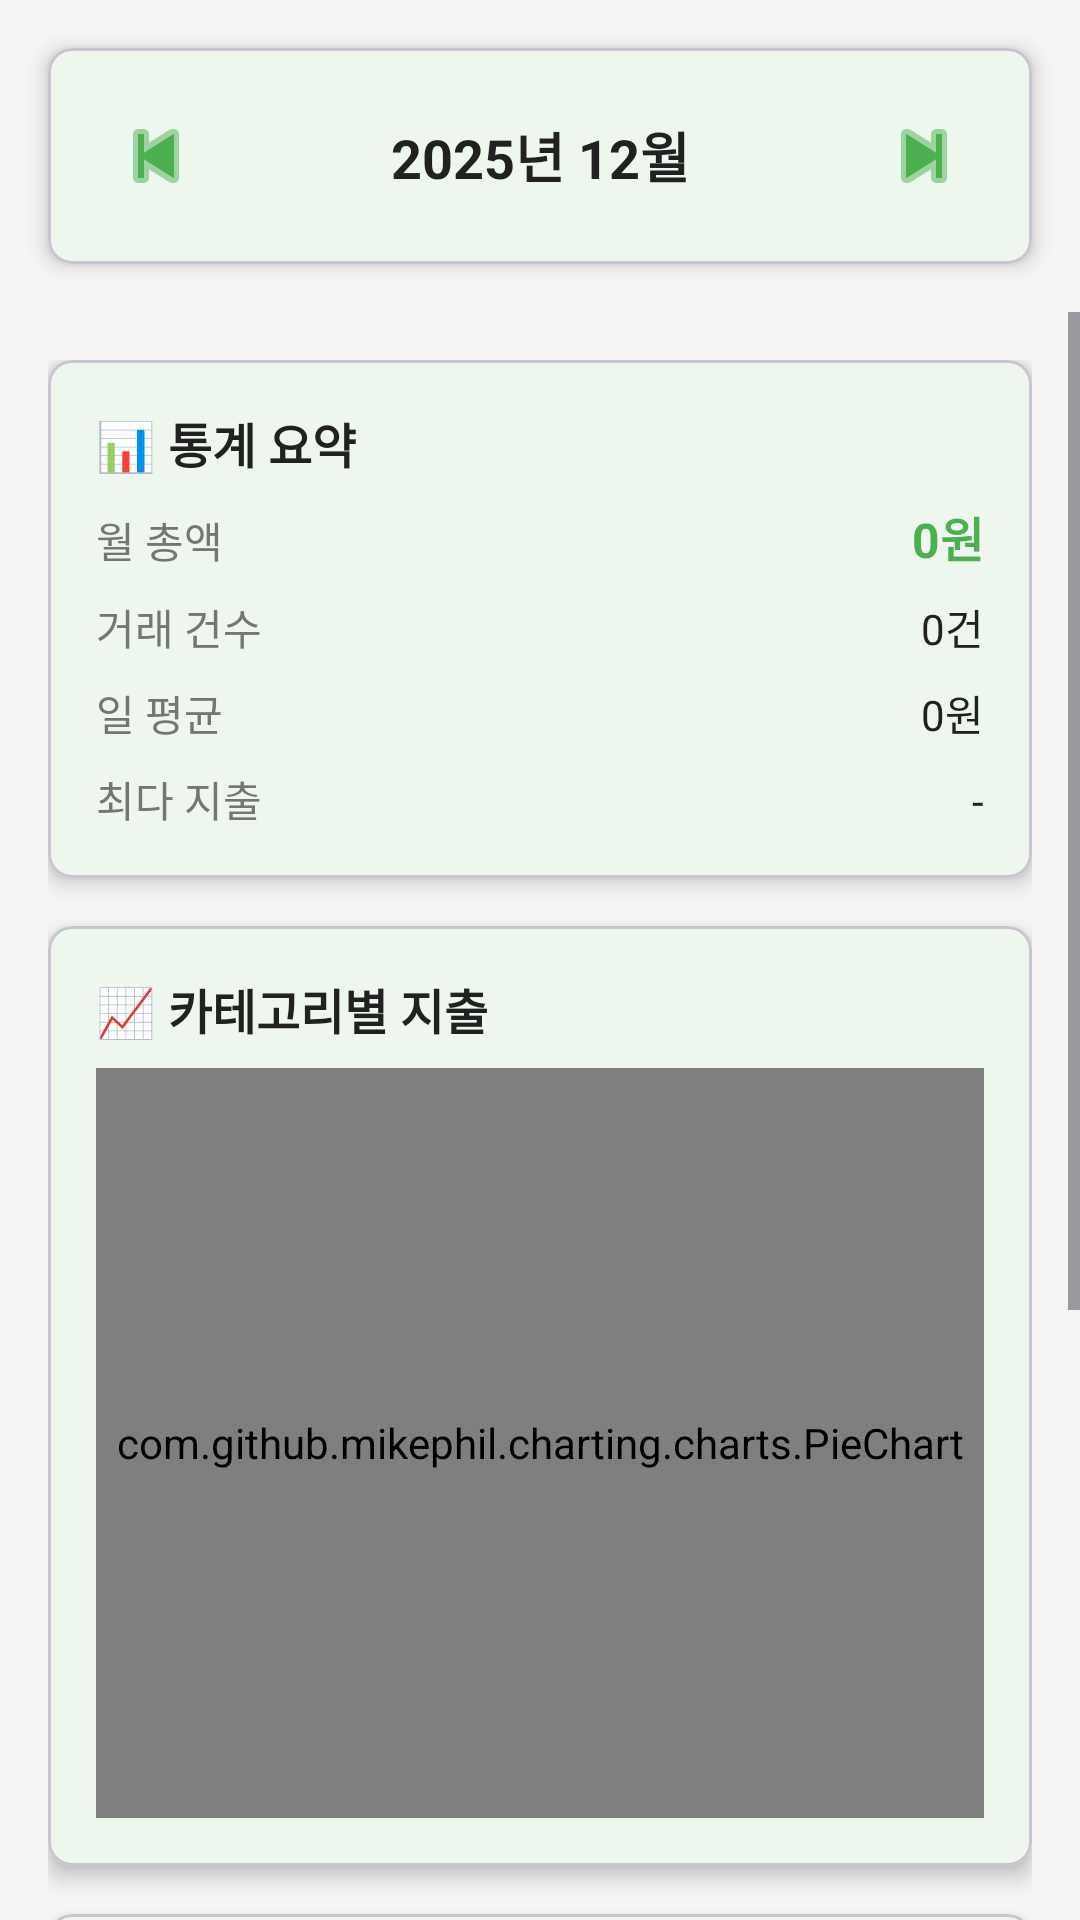

Screen size 1080x1920. Icon name, then its box in pixels as (x1, y1, x2, y2):
다음 달: (901, 129, 947, 183)
이전 달: (133, 129, 179, 183)
